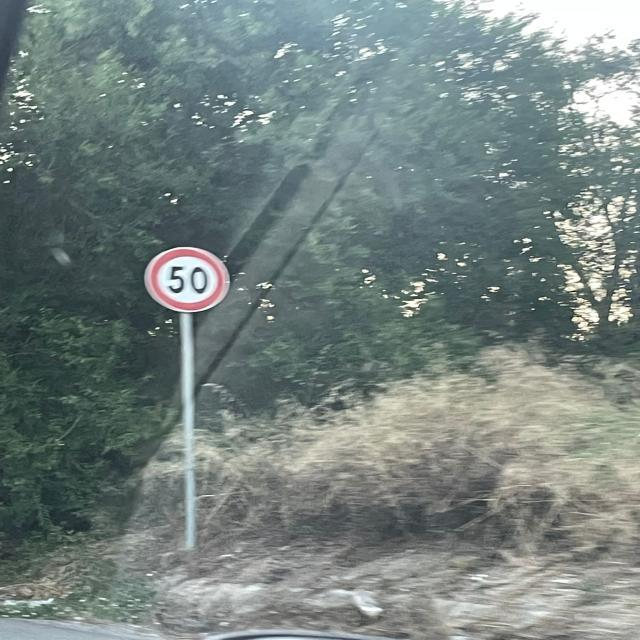forb_speed_over_50: (144, 245, 231, 314)
